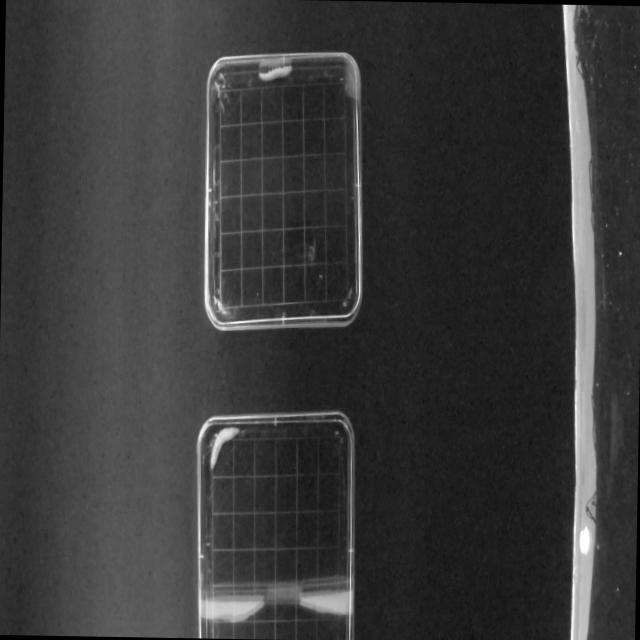larva: (208, 425, 240, 472), (256, 58, 298, 92)
